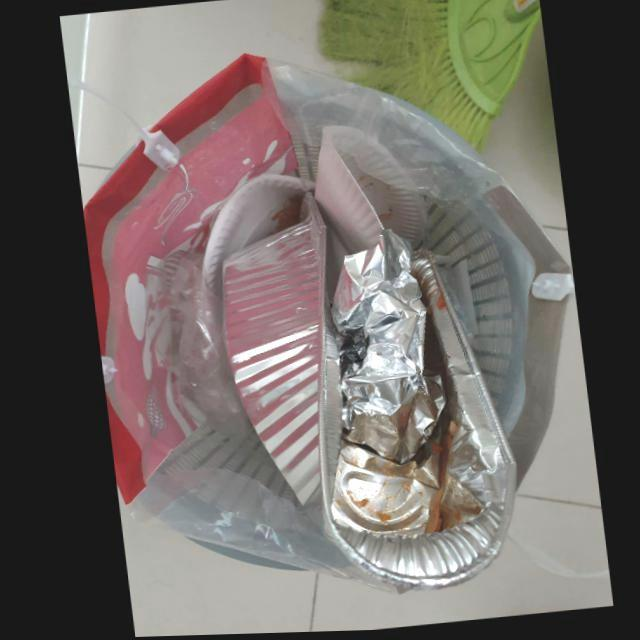aluminum: (220, 200, 512, 591), (328, 231, 442, 467)
cardboard: (312, 127, 425, 257), (200, 175, 314, 301)
